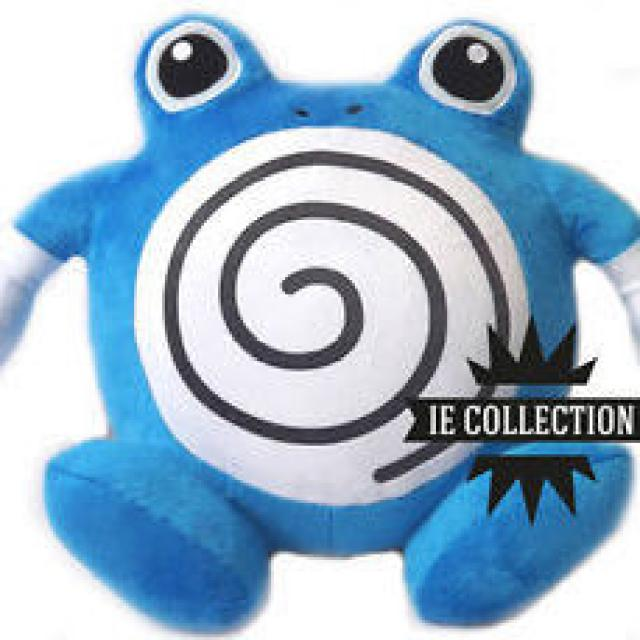Poliwhirl: (41, 2, 638, 588)
